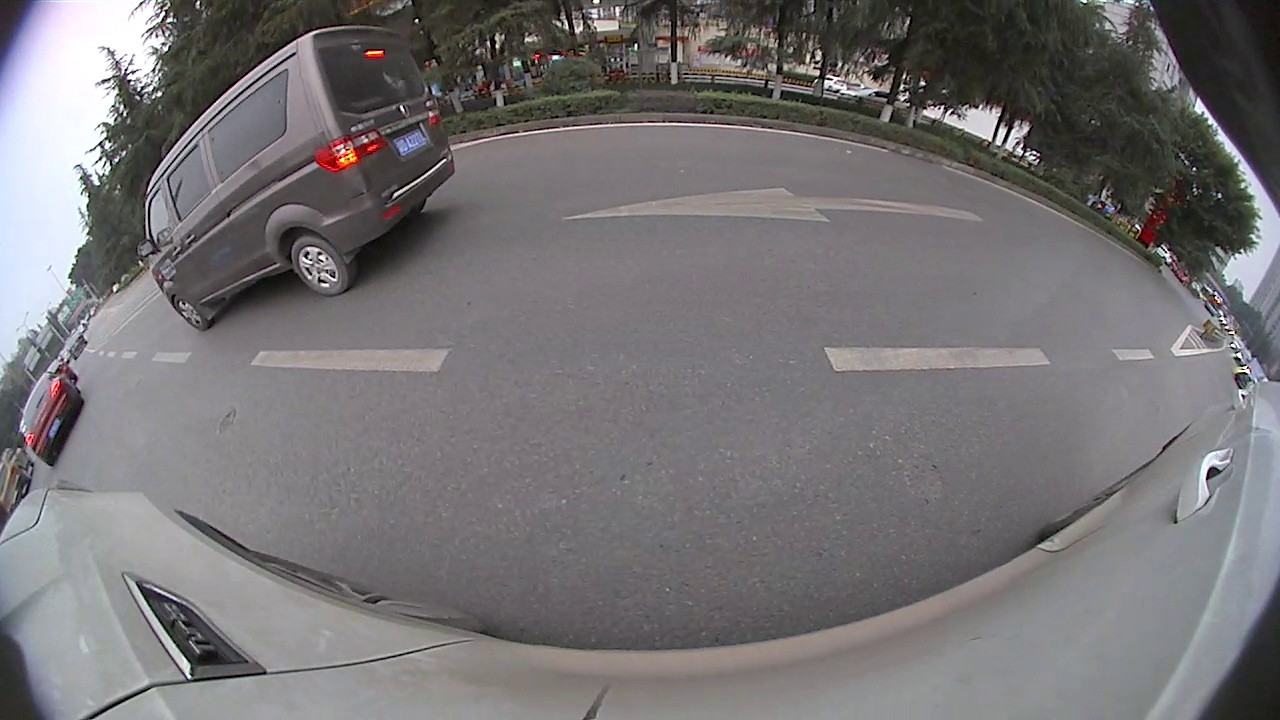car: (142, 25, 458, 333), (18, 369, 86, 469)
front: (172, 291, 214, 334)
rear: (290, 235, 354, 300)
